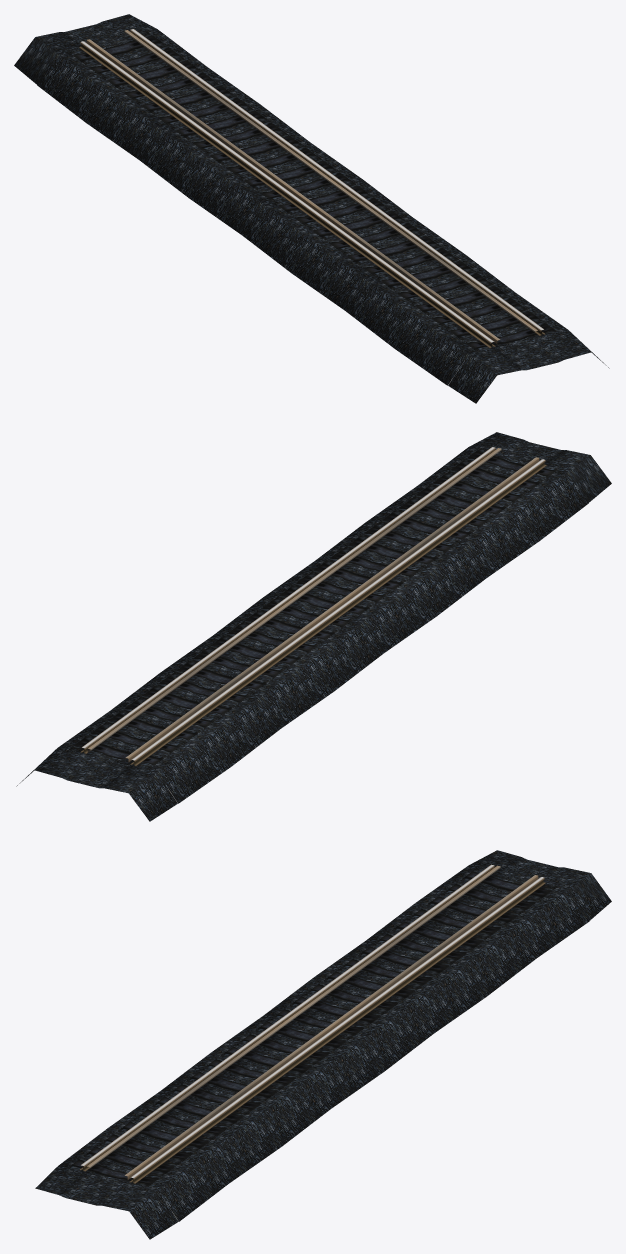
File: SIN_1RAIL_50.glb
3 renders of one model, top to bottom at view 1: azimuth 30°, elevation 25°; view 2: azimuth 150°, elevation 25°; view 3: azimuth 330°, elevation 25°, orthographic.
Visible parts, largest first — view 1: obj2, R000_RG_R1, R000_RG_L1; view 2: obj2, R000_RG_R1, R000_RG_L1; view 3: obj2, R000_RG_L1, R000_RG_R1.
Boxes of the visible parts, x1,y1,x2,y2 form: obj2: (14, 14, 609, 403); R000_RG_R1: (86, 39, 500, 344); R000_RG_L1: (124, 30, 537, 332); obj2: (16, 432, 611, 821); R000_RG_R1: (125, 457, 539, 762); R000_RG_L1: (87, 448, 501, 752); obj2: (35, 850, 611, 1239); R000_RG_L1: (125, 875, 538, 1179); R000_RG_R1: (87, 865, 500, 1168).
Bounding box in the file's own units: 10.12 × 2.22 × 56.25.
6 materials, 5 textured.
